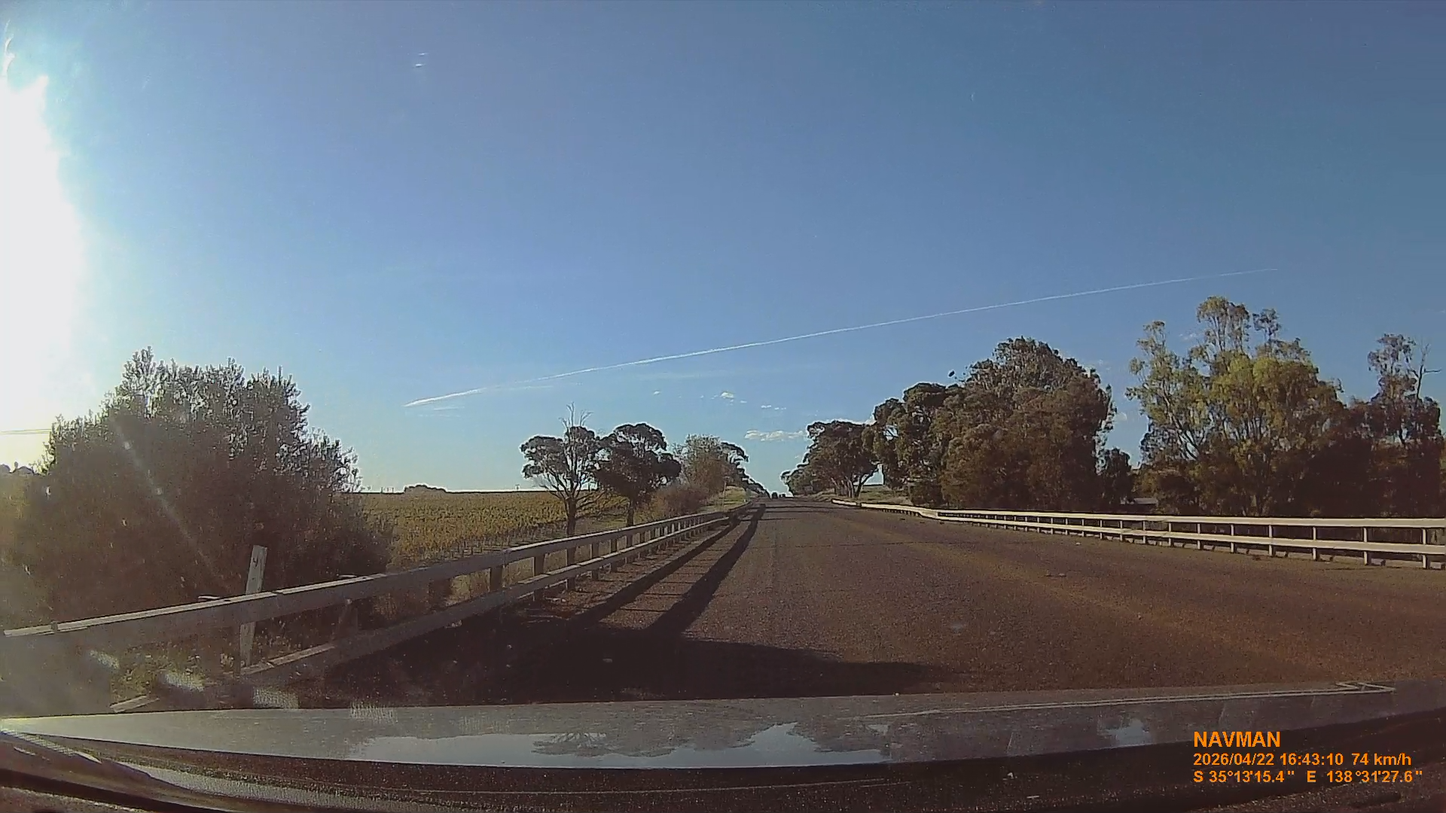road barriers: (0, 510, 743, 714), (859, 504, 1445, 569)
